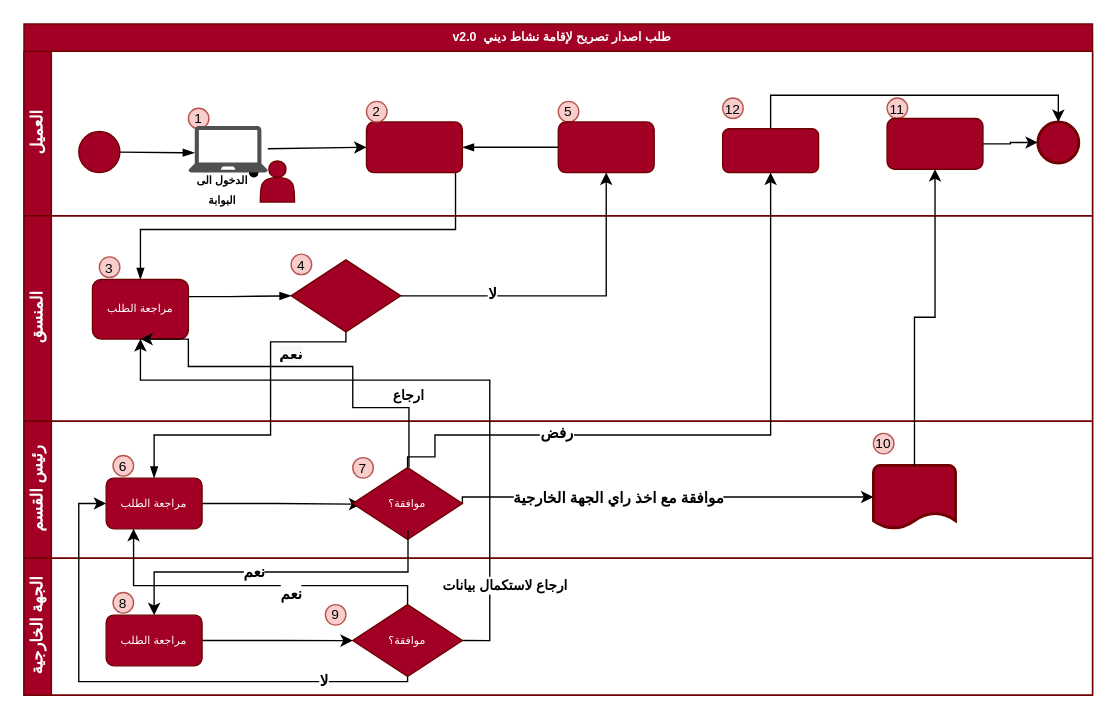
This 1117x719 diagram has some shape labels left out. Here are the shapes that lost their labels. From the top down, the centre of each, then its label:
the point at 98,151: بداية
the point at 413,147: تعبئة و تقديم نموذج الطلب
the point at 605,147: استكمال البيانات المطلوبة و اعادة الارسال
the point at 770,150: ارسال رسالة إعتذار
the point at 934,143: ارسال رسالة موافقة
the point at 1058,142: اغلاق
the point at 345,295: الطلب مكتمل؟
the point at 913,496: اصدار تصريح
